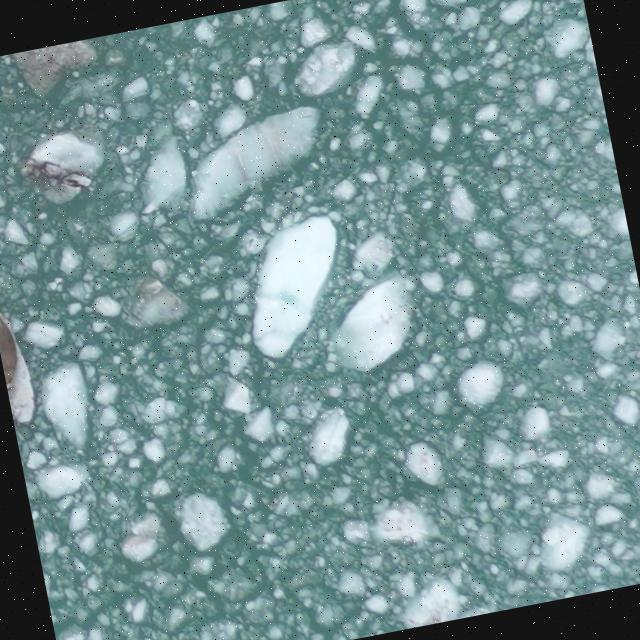seal: (0, 289, 30, 393)
